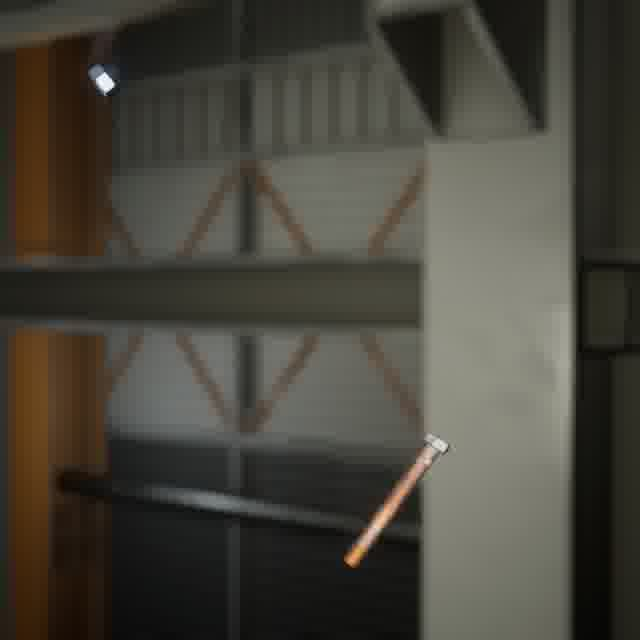bolt: (339, 427, 454, 572)
nut: (84, 60, 122, 102)
